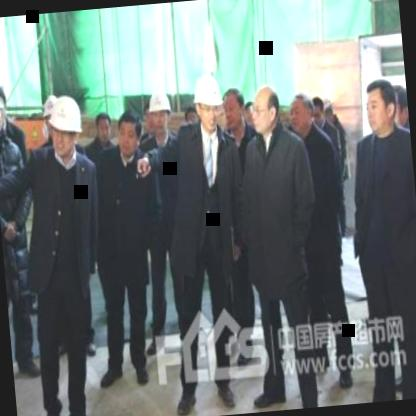head: (360, 73, 398, 139), (249, 82, 282, 138), (115, 109, 144, 162), (220, 85, 250, 135), (287, 90, 315, 140), (390, 82, 410, 140), (94, 110, 115, 146), (308, 94, 326, 127)
helmet: (46, 94, 90, 162), (191, 70, 227, 134), (145, 88, 174, 139), (0, 81, 8, 139)
